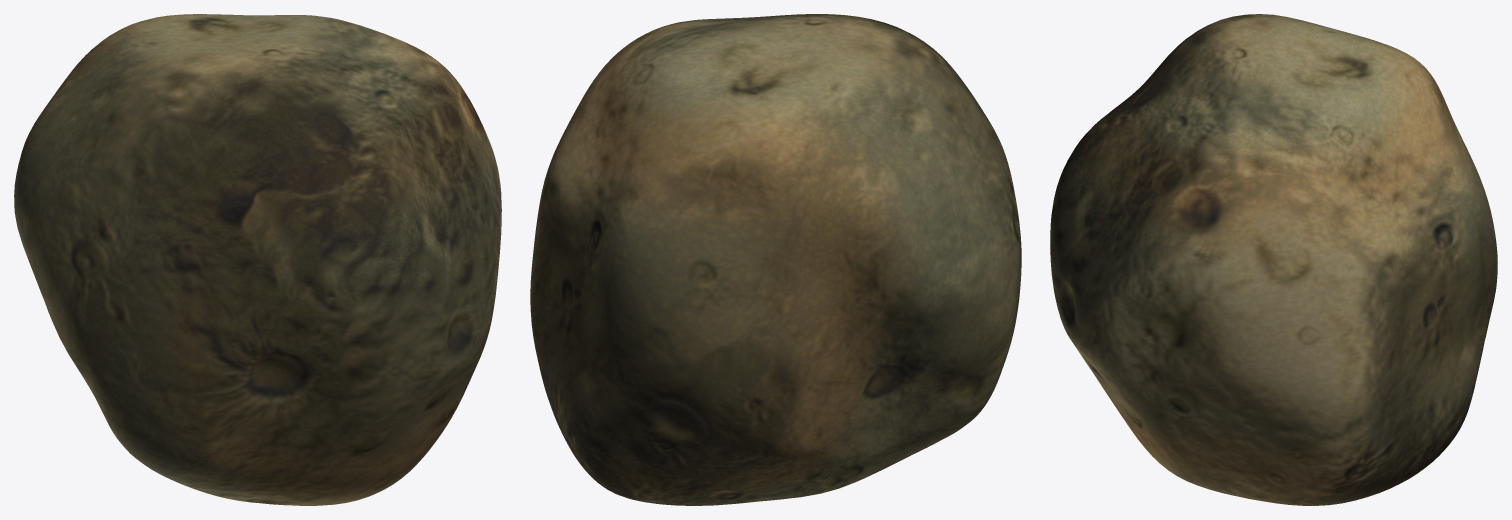
File: Asteroid_1.fbx
The picture shows the model from 3 angles, left to right: view 1: azimuth 30°, elevation 25°; view 2: azimuth 150°, elevation 25°; view 3: azimuth 270°, elevation 25°; orthographic projection. The views are drawn at different scales.
Visible parts, largest first — view 1: _Asteroid_v1_Iterations_2:_Asteroid_v1; view 2: _Asteroid_v1_Iterations_2:_Asteroid_v1; view 3: _Asteroid_v1_Iterations_2:_Asteroid_v1.
Boxes of the visible parts, bbox=[...] form: _Asteroid_v1_Iterations_2:_Asteroid_v1: bbox=[14, 14, 501, 505]; _Asteroid_v1_Iterations_2:_Asteroid_v1: bbox=[530, 14, 1021, 505]; _Asteroid_v1_Iterations_2:_Asteroid_v1: bbox=[1050, 14, 1497, 505].
Bounding box in the file's own units: 1365 × 1383 × 1377.
Materials: 1 (1 with a texture image).
